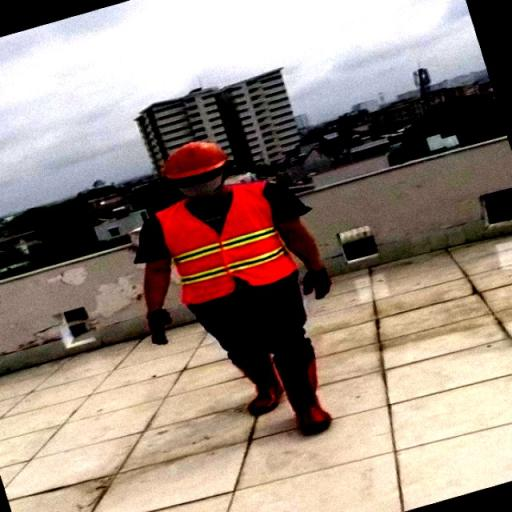Person: (124, 135, 376, 459)
boots: (274, 353, 344, 437), (231, 348, 283, 422)
gloves: (304, 261, 349, 298), (140, 308, 178, 342)
goggles: (168, 176, 229, 190)
helmet: (149, 137, 241, 178)
vest: (152, 176, 297, 307)
